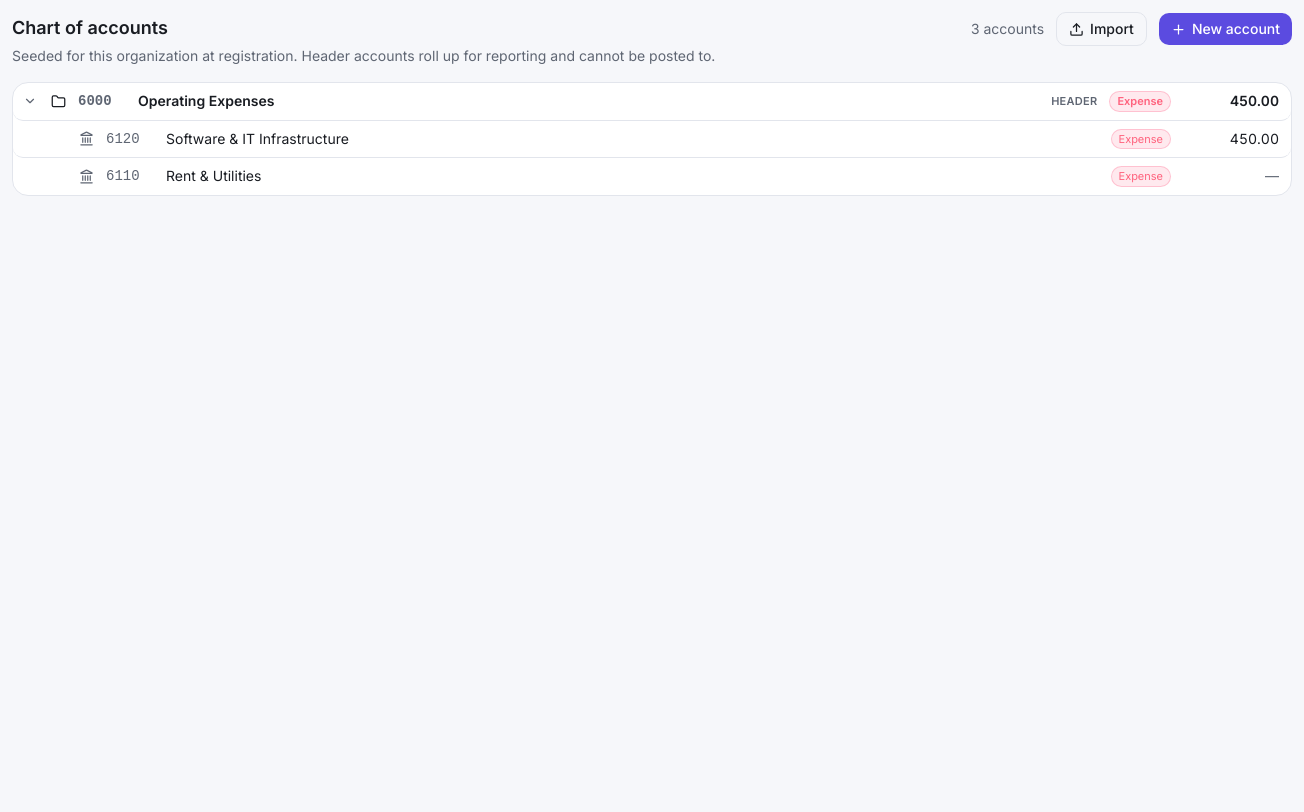
Scenario: AccountsPage › surfaces a duplicate code error verbatim
Click the button "New account" at (1225, 29), box [1159,13,1292,45]
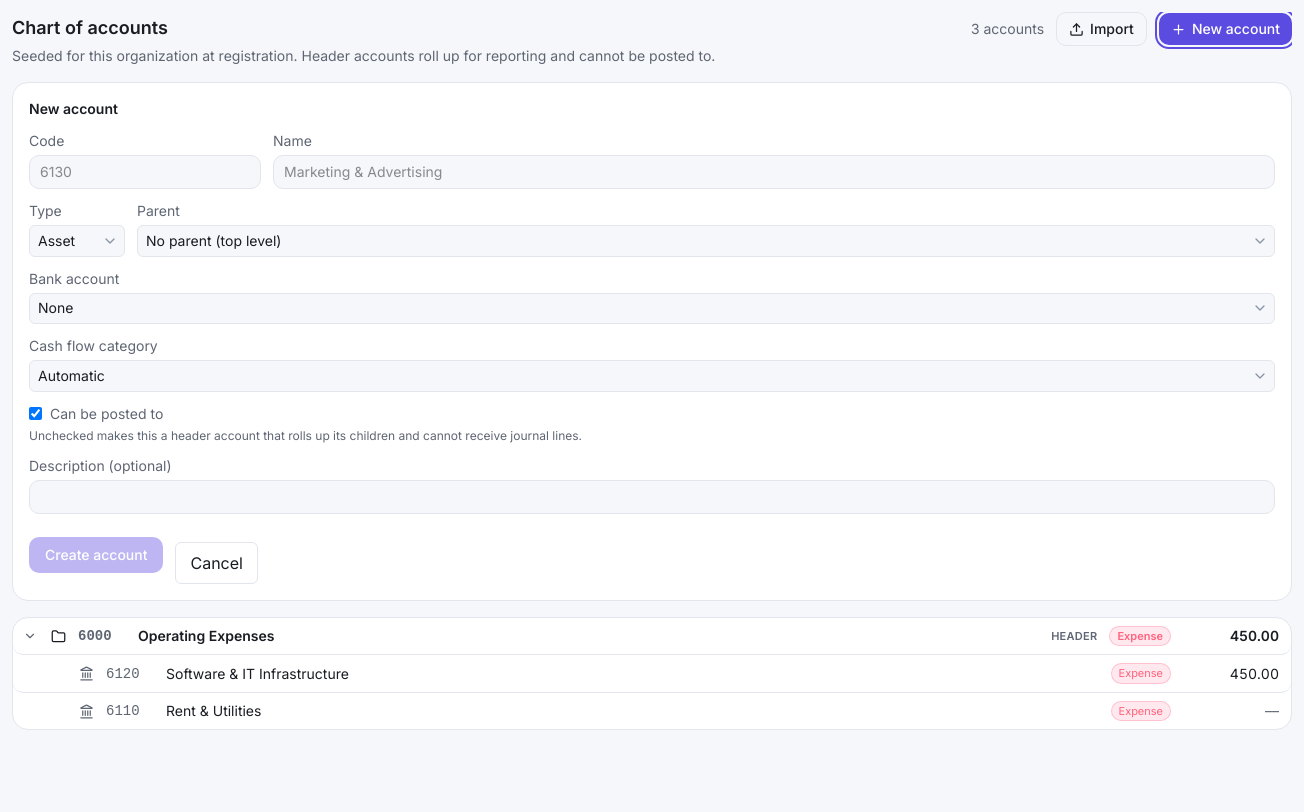
Type "6120" into the field labelled "Code" at (145, 172), box [29,155,261,189]
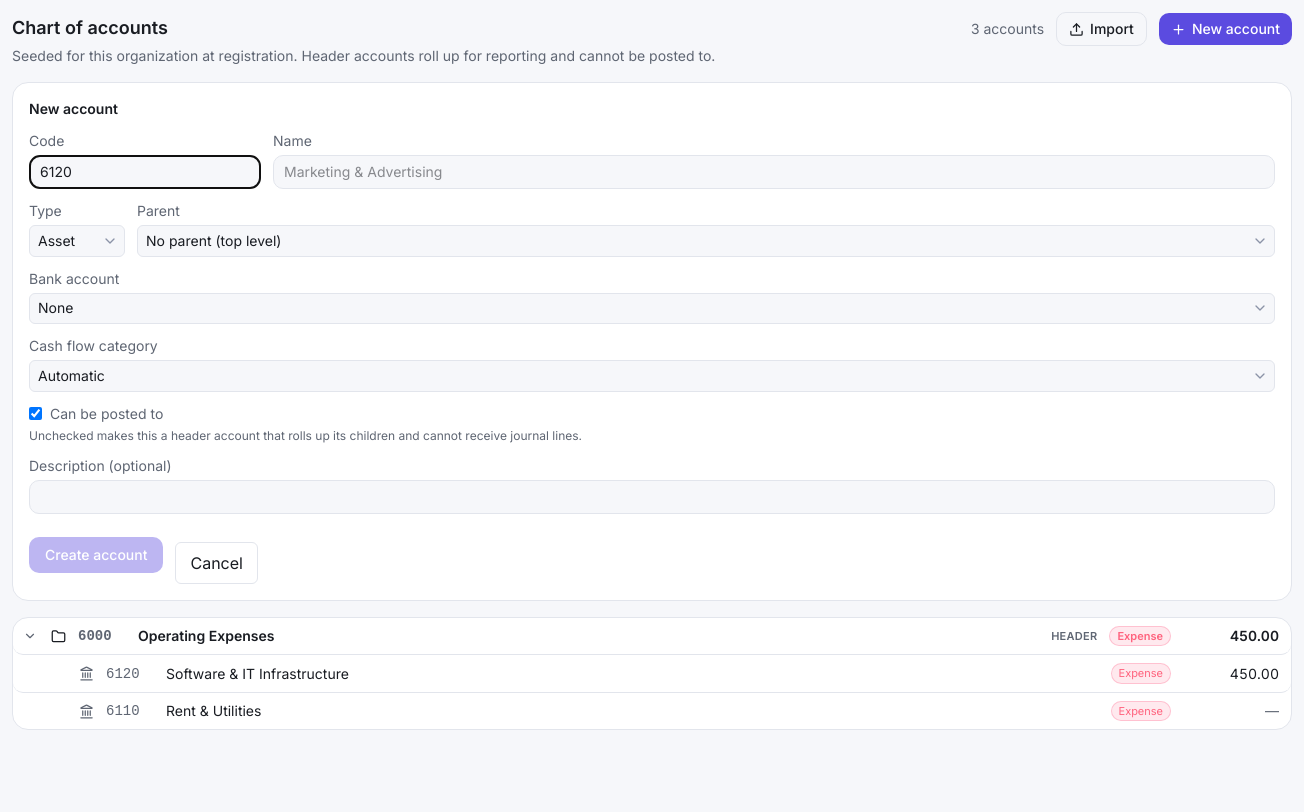
Type "Duplicate" into the field labelled "Name" at (774, 172), box [273,155,1275,189]
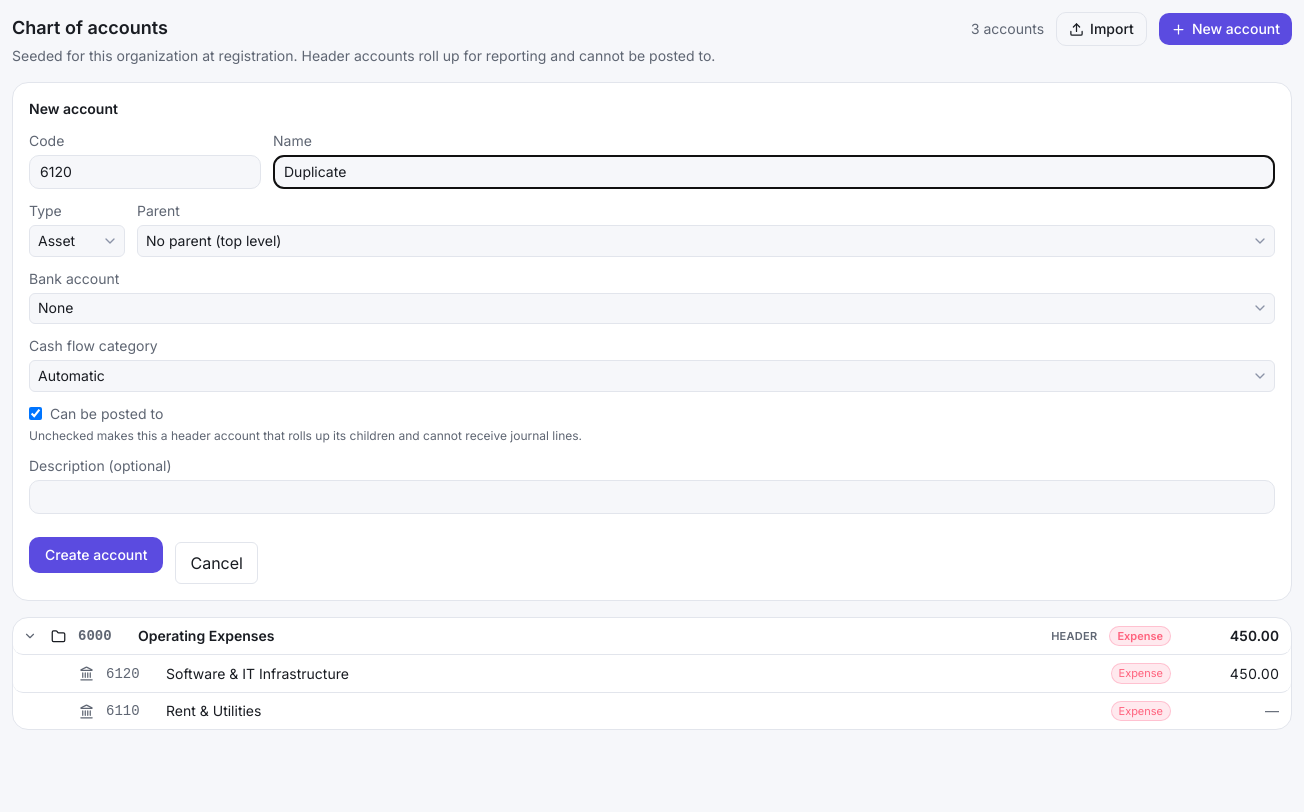
Click the button "Create account" at (96, 555), box [29,537,164,573]
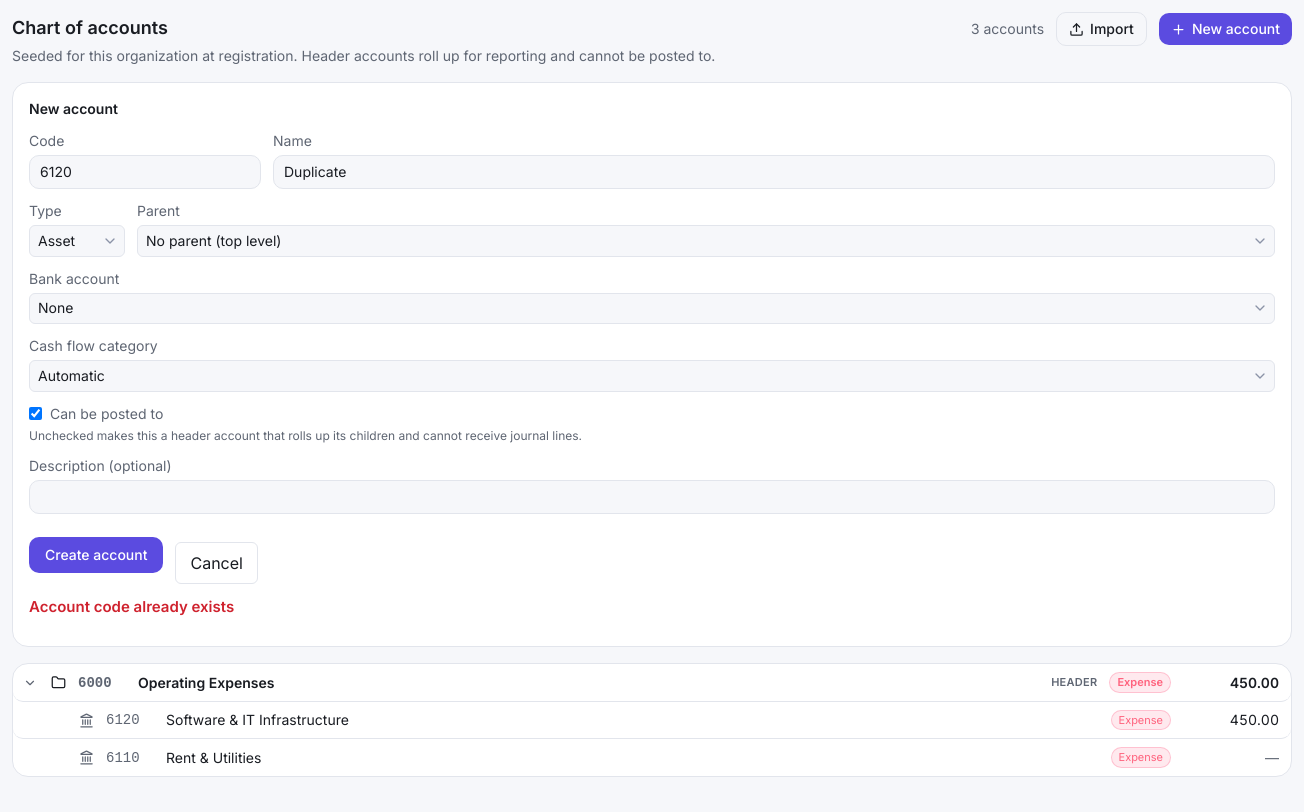
expect the text "Account code already exists" is shown: met, box [29,597,234,616]
